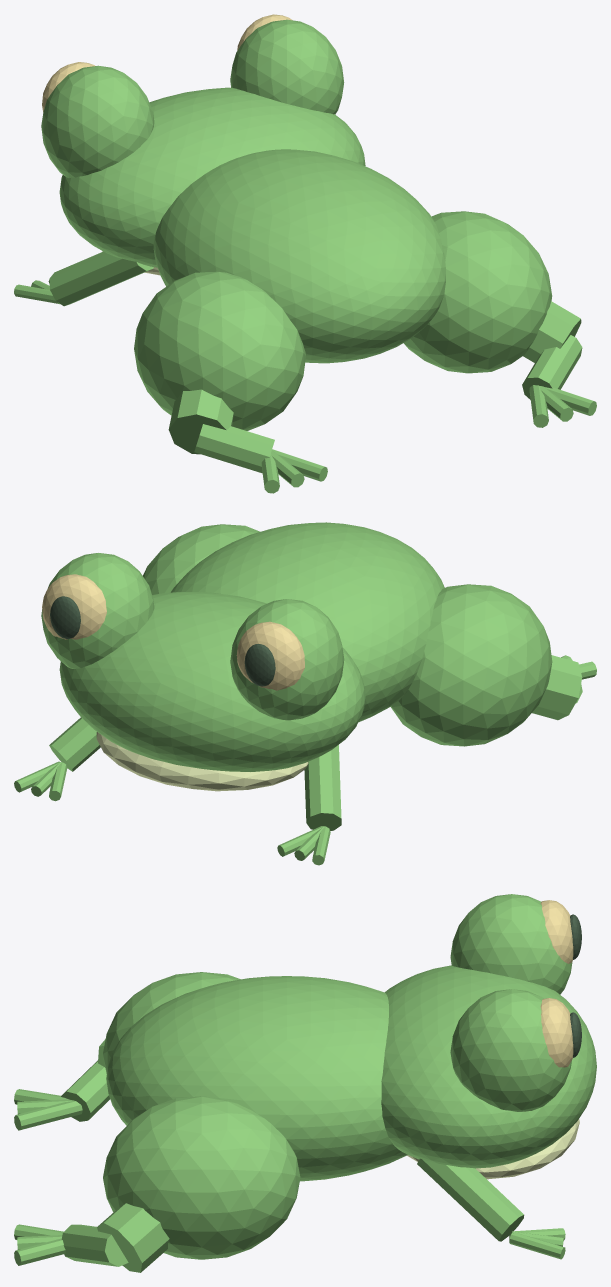
The model's file is frog_detailed.glb.
3 renders of one model, top to bottom at view 1: azimuth 30°, elevation 25°; view 2: azimuth 150°, elevation 25°; view 3: azimuth 270°, elevation 25°, orthographic. The views are drawn at different scales.
Visible parts, largest first — view 1: frog_part_0, frog_part_1, frog_part_6, frog_part_19, frog_part_3, frog_part_16, frog_part_9, frog_part_7, frog_part_8, frog_part_21, frog_part_20, frog_part_10 (+2 smaller); view 2: frog_part_1, frog_part_0, frog_part_6, frog_part_3, frog_part_16, frog_part_2, frog_part_19, frog_part_4, frog_part_9, frog_part_17, frog_part_7, frog_part_22 (+3 smaller); view 3: frog_part_0, frog_part_19, frog_part_1, frog_part_16, frog_part_3, frog_part_22, frog_part_6, frog_part_20, frog_part_21, frog_part_17, frog_part_8, frog_part_2 (+4 smaller).
Boxes of the visible parts, box(x1,y1,x2,y2) form: frog_part_0: box(153, 149, 445, 363); frog_part_1: box(59, 87, 365, 267); frog_part_6: box(134, 271, 305, 430); frog_part_19: box(403, 211, 552, 373); frog_part_3: box(41, 65, 154, 177); frog_part_16: box(230, 19, 344, 114); frog_part_9: box(49, 251, 153, 306); frog_part_7: box(168, 389, 233, 454); frog_part_8: box(194, 424, 274, 473); frog_part_21: box(522, 335, 582, 399); frog_part_20: box(523, 301, 581, 362); frog_part_10: box(272, 449, 327, 481); frog_part_1: box(59, 592, 365, 771); frog_part_0: box(171, 522, 444, 722); frog_part_6: box(390, 584, 552, 746); frog_part_3: box(230, 599, 344, 720); frog_part_16: box(41, 553, 154, 668); frog_part_2: box(96, 732, 308, 791); frog_part_19: box(143, 524, 260, 594); frog_part_4: box(236, 621, 304, 690); frog_part_9: box(304, 745, 341, 830); frog_part_17: box(42, 574, 106, 639); frog_part_7: box(532, 655, 582, 720); frog_part_22: box(49, 717, 100, 771); frog_part_0: box(106, 976, 407, 1181); frog_part_19: box(103, 1096, 300, 1259); frog_part_1: box(381, 965, 596, 1168); frog_part_16: box(450, 989, 571, 1111); frog_part_3: box(450, 894, 572, 994); frog_part_22: box(417, 1158, 524, 1241); frog_part_6: box(103, 972, 240, 1074); frog_part_20: box(97, 1203, 169, 1272); frog_part_21: box(61, 1224, 128, 1266); frog_part_17: box(540, 998, 573, 1067); frog_part_8: box(61, 1060, 109, 1121); frog_part_2: box(407, 1119, 579, 1179).
Size of the model in its own units: 1.43 by 0.7928 by 1.71.
